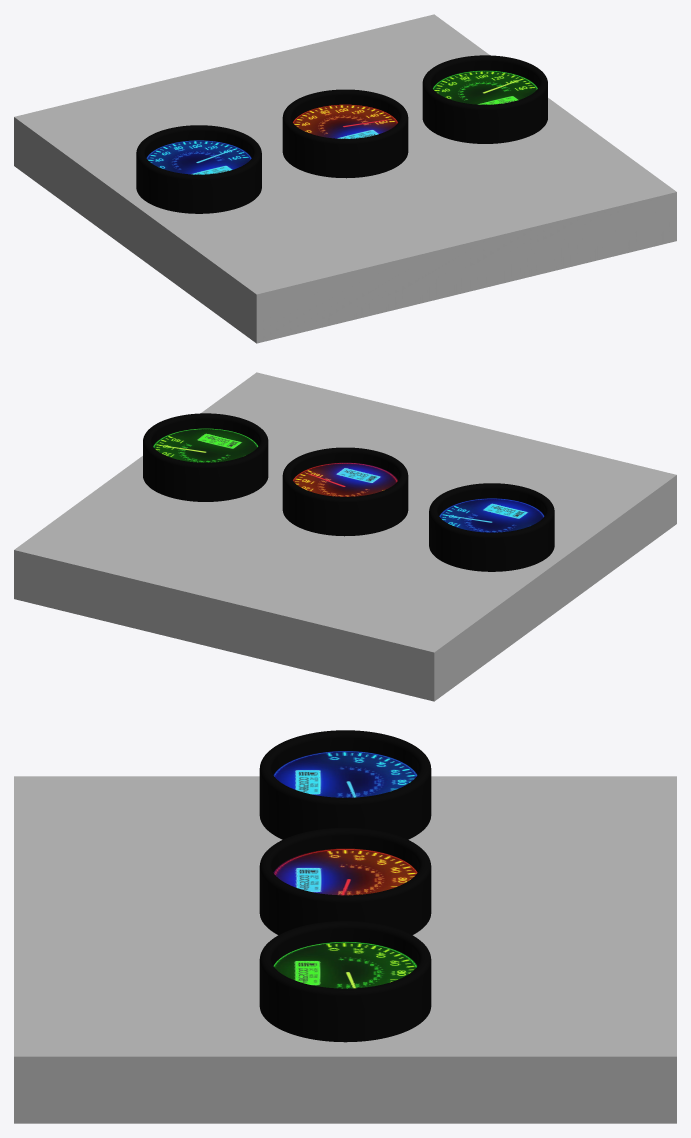
File: speedometer.glb
The picture shows the model from 3 angles, top to bottom: view 1: azimuth 30°, elevation 25°; view 2: azimuth 150°, elevation 25°; view 3: azimuth 270°, elevation 25°; orthographic projection. The views are drawn at different scales.
Parts seen in each view (by area): view 1: pCube1, pCylinder2, pCylinder4, pCylinder3; view 2: pCube1, pCylinder2, pCylinder4, pCylinder3; view 3: pCube1, pCylinder4, pCylinder3, pCylinder2.
Boxes of the visible parts, x1,y1,x2,y2 form: pCube1: (14, 14, 676, 343); pCylinder2: (282, 89, 408, 178); pCylinder4: (422, 55, 547, 143); pCylinder3: (136, 125, 261, 213); pCube1: (14, 372, 676, 701); pCylinder2: (282, 447, 408, 536); pCylinder4: (143, 413, 268, 501); pCylinder3: (429, 483, 554, 571); pCube1: (14, 776, 676, 1123); pCylinder4: (259, 921, 431, 1042); pCylinder3: (259, 730, 431, 839); pCylinder2: (259, 828, 431, 934).
Size of the model in its own units: 0.1863 by 0.0376 by 0.1863.
5 materials, 3 textured.
